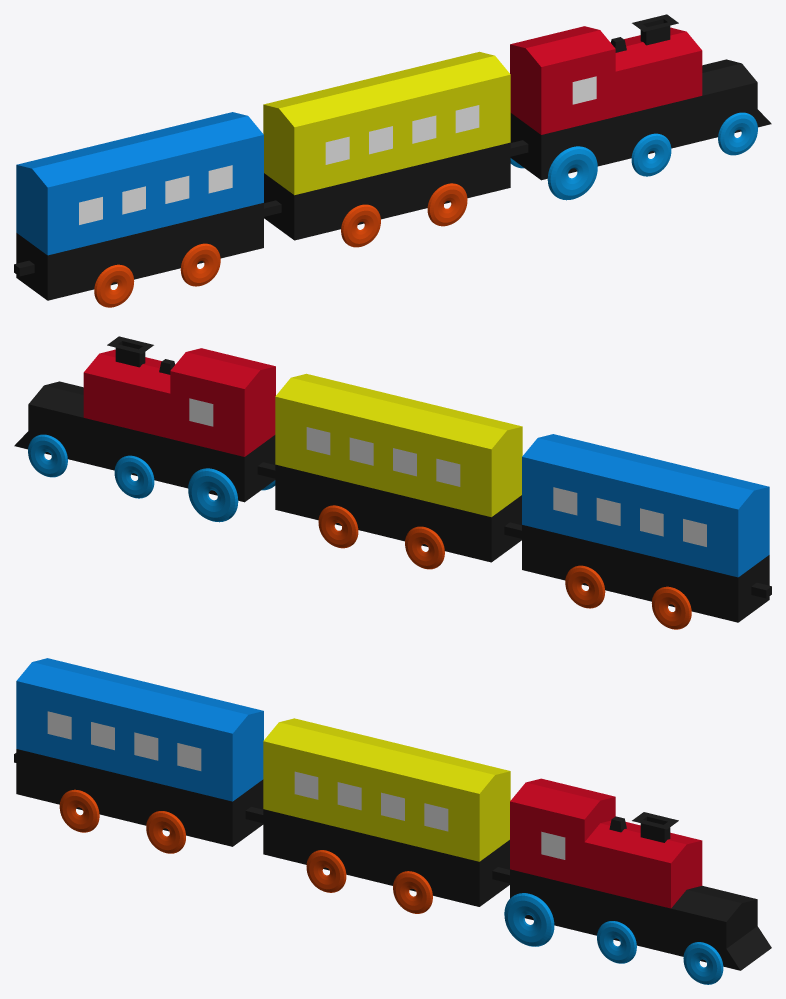
File: train.fbx
The picture shows the model from 3 angles, top to bottom: view 1: azimuth 30°, elevation 25°; view 2: azimuth 150°, elevation 25°; view 3: azimuth 330°, elevation 25°; orthographic projection.
Parts seen in each view (by area): view 1: Wagon1, Wagon2, FrontWagon, FrontWagonWheels, Wheels2, Wheels1; view 2: Wagon1, Wagon2, FrontWagon, FrontWagonWheels, Wheels2, Wheels1; view 3: Wagon1, Wagon2, FrontWagon, FrontWagonWheels, Wheels2, Wheels1.
Boxes of the visible parts, left/top/right/bottom form: Wagon1: left=14, top=112, right=266, bottom=300; Wagon2: left=263, top=51, right=513, bottom=240; FrontWagon: left=510, top=14, right=771, bottom=180; FrontWagonWheels: left=510, top=112, right=757, bottom=200; Wheels2: left=341, top=183, right=467, bottom=247; Wheels1: left=94, top=243, right=220, bottom=307; Wagon1: left=519, top=434, right=771, bottom=622; Wagon2: left=272, top=373, right=522, bottom=562; FrontWagon: left=14, top=336, right=275, bottom=502; FrontWagonWheels: left=28, top=434, right=275, bottom=522; Wheels2: left=318, top=505, right=444, bottom=569; Wheels1: left=565, top=565, right=691, bottom=629; Wagon1: left=14, top=658, right=263, bottom=846; Wagon2: left=260, top=718, right=510, bottom=906; FrontWagon: left=507, top=778, right=771, bottom=970; FrontWagonWheels: left=504, top=893, right=723, bottom=984; Wheels2: left=306, top=850, right=432, bottom=913; Wheels1: left=59, top=789, right=185, bottom=853.
Bounding box in the file's own units: 137 × 25.07 × 15.3.
